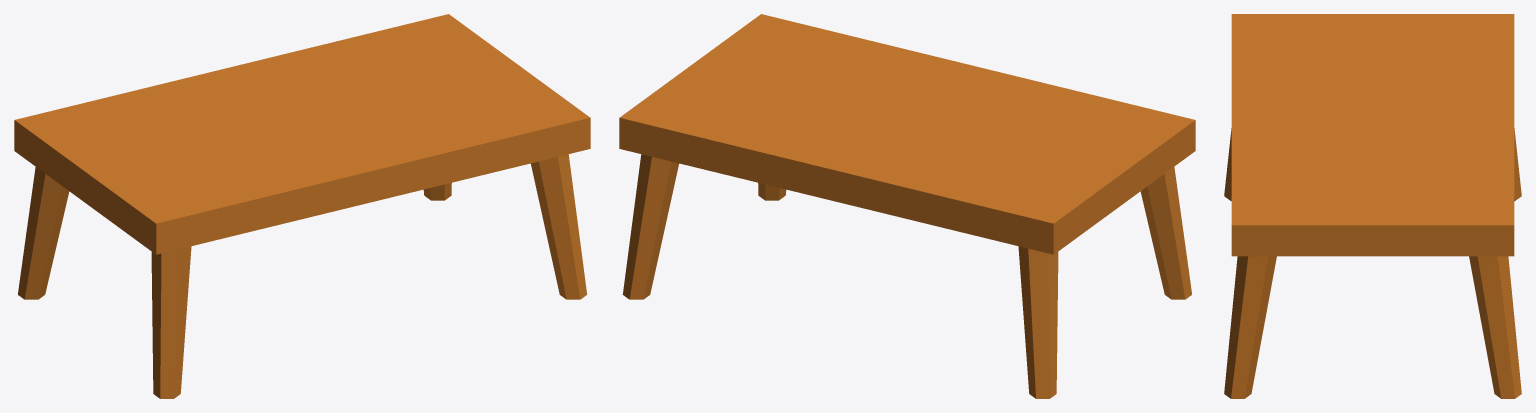
File: Meja Santuyy.fbx
3 renders of one model, left to right at view 1: azimuth 30°, elevation 25°; view 2: azimuth 150°, elevation 25°; view 3: azimuth 270°, elevation 25°, orthographic.
Parts seen in each view (by area): view 1: Plane.021; view 2: Plane.021; view 3: Plane.021.
Boxes of the visible parts, left/top/right/bottom form: Plane.021: left=14, top=14, right=590, bottom=398; Plane.021: left=619, top=14, right=1195, bottom=398; Plane.021: left=1224, top=14, right=1521, bottom=398.
Size of the model in its own units: 1171 by 453 by 697.
